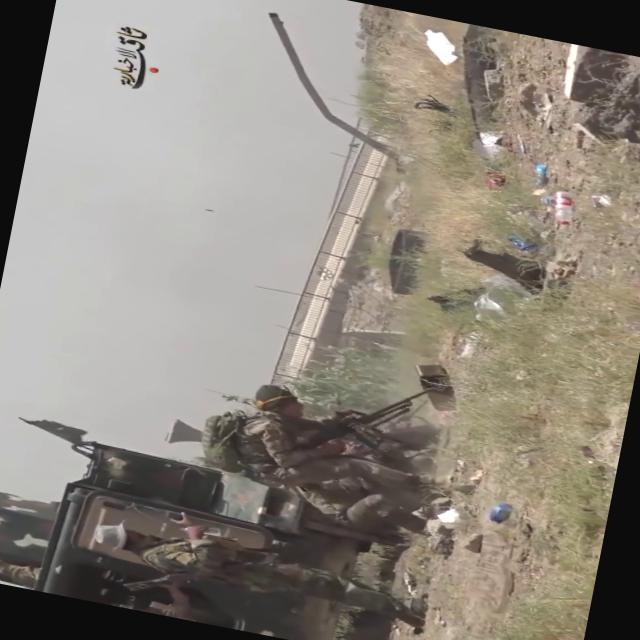long weapon: (277, 360, 431, 474)
